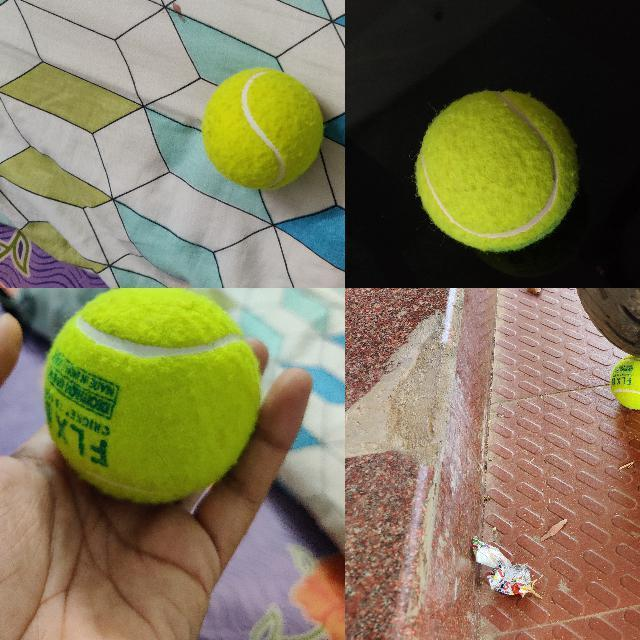tennis-ball: (42, 288, 262, 505), (414, 90, 578, 252), (202, 67, 324, 191), (609, 361, 639, 410)
